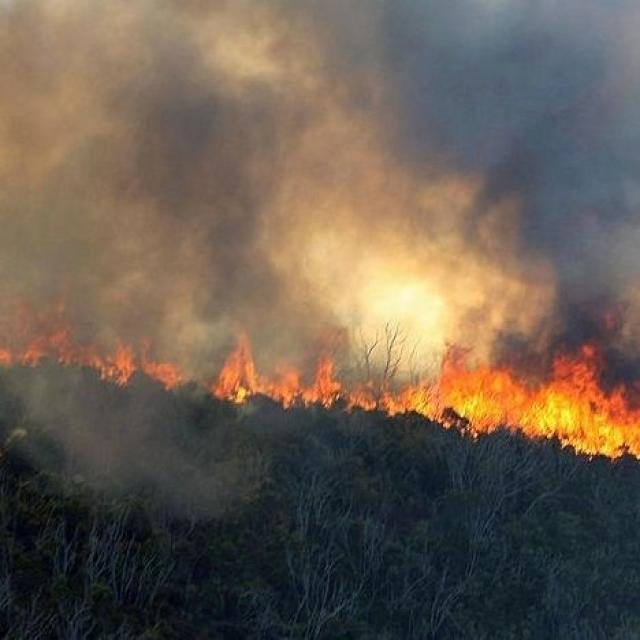Fire: (359, 357, 640, 475), (0, 307, 191, 401), (200, 328, 360, 424)
Smoke: (0, 4, 640, 366)
